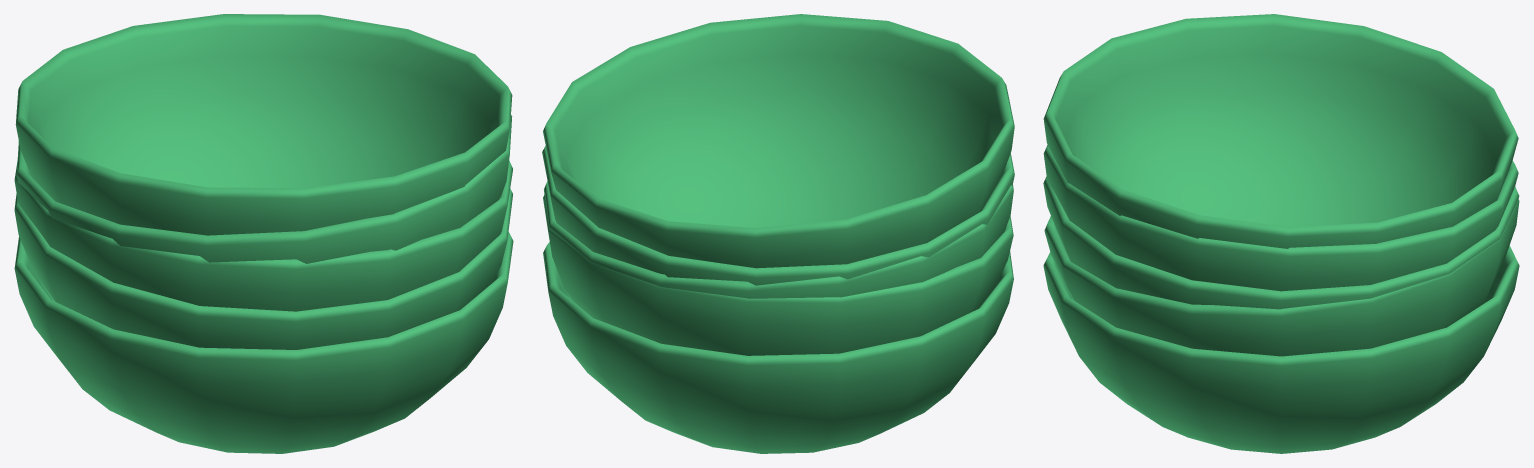
The model's file is bowl_02.fbx.
The picture shows the model from 3 angles, left to right: view 1: azimuth 30°, elevation 25°; view 2: azimuth 150°, elevation 25°; view 3: azimuth 270°, elevation 25°; orthographic projection. The views are drawn at different scales.
Visible parts, largest first — view 1: pSphere8; view 2: pSphere8; view 3: pSphere8.
Boxes of the visible parts, left/top/right/bottom form: pSphere8: left=14, top=14, right=513, bottom=453; pSphere8: left=542, top=14, right=1014, bottom=453; pSphere8: left=1043, top=14, right=1519, bottom=453.
Bounding box in the file's own units: 0.1729 × 0.1248 × 0.1729.
